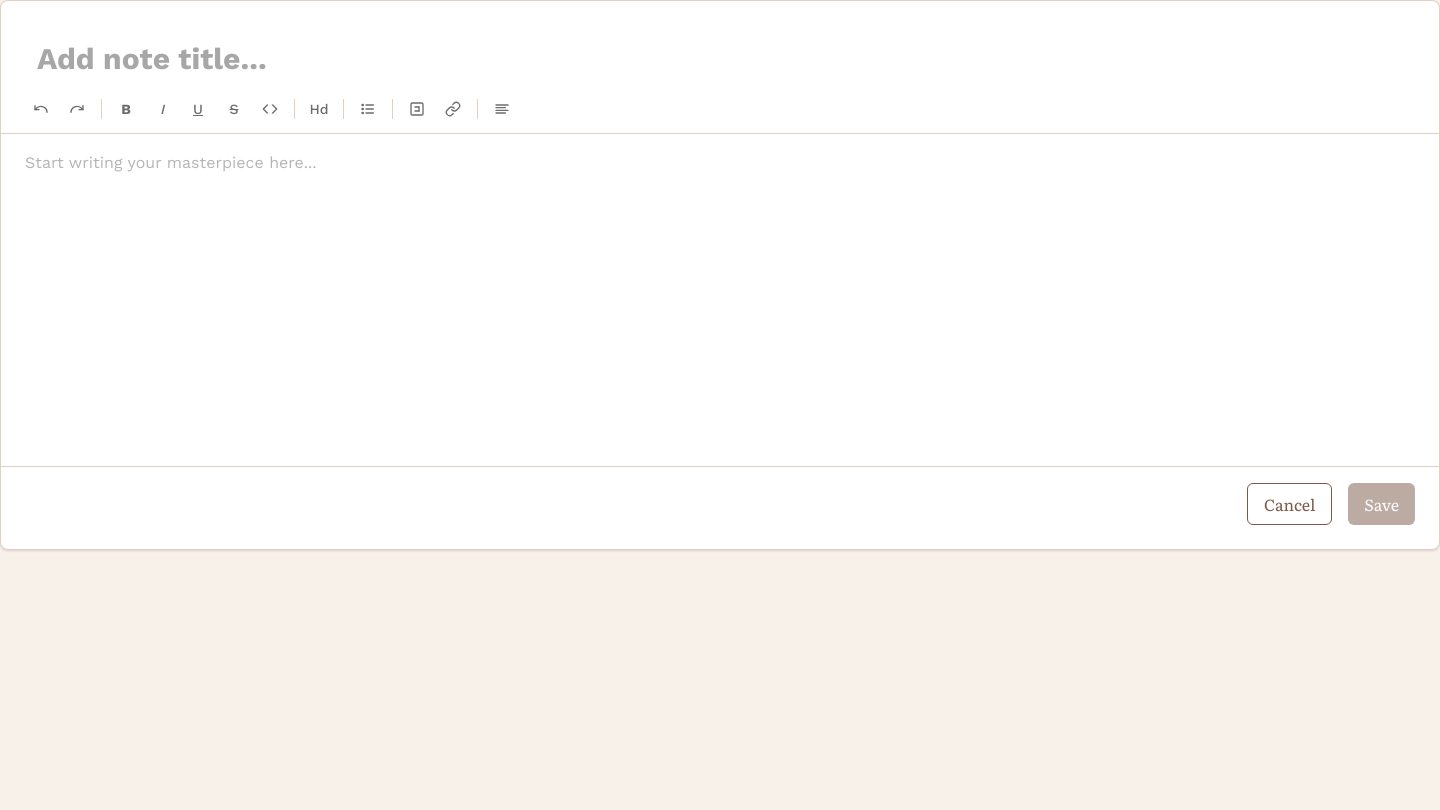
Test: Form — Save button state › Save button becomes enabled after typing a valid title
Type "My New Note" into the field with placeholder "Add note title...". click: (720, 59)
box: [25,25,1415,93]
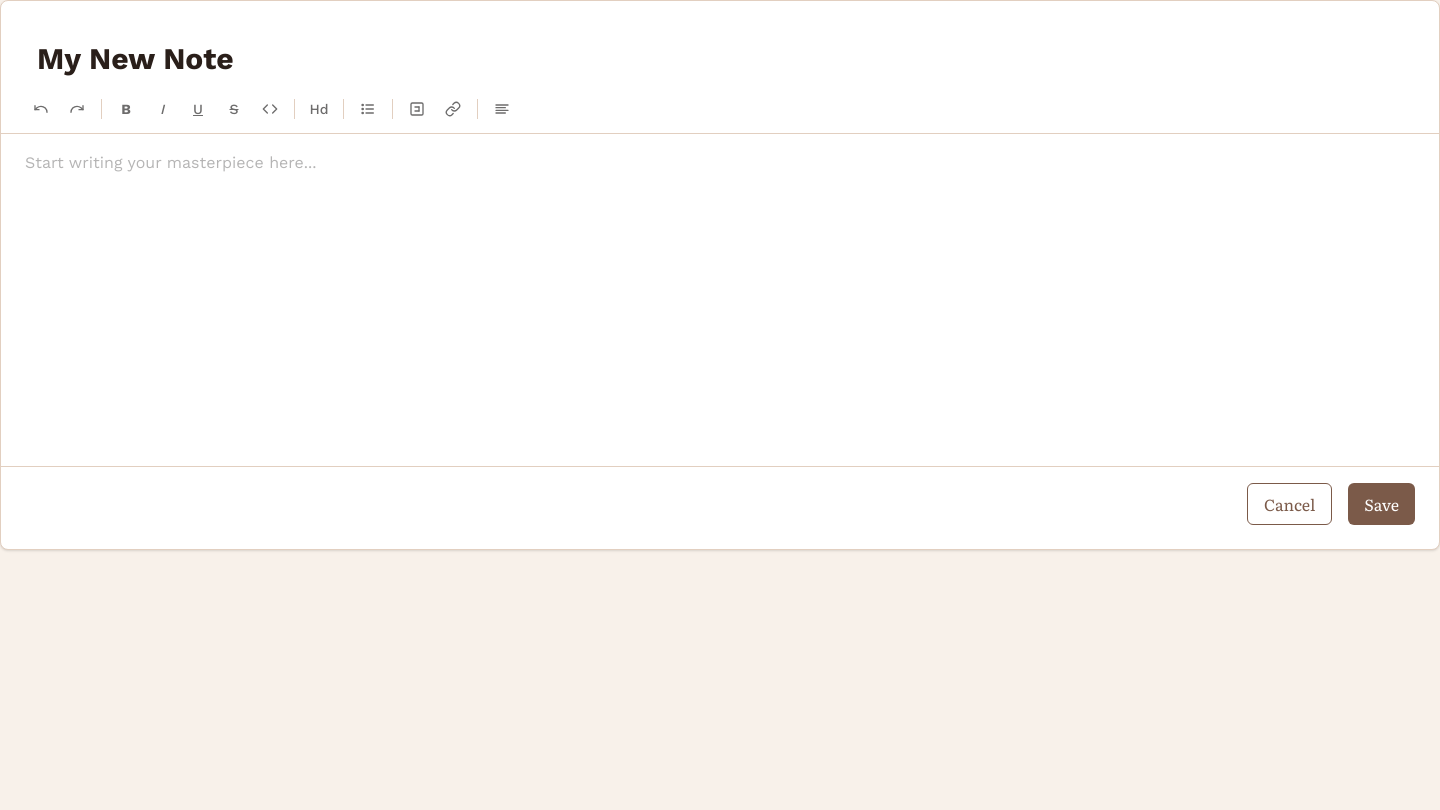
Now the button "Save" is enabled, box [1348,483,1415,525]
